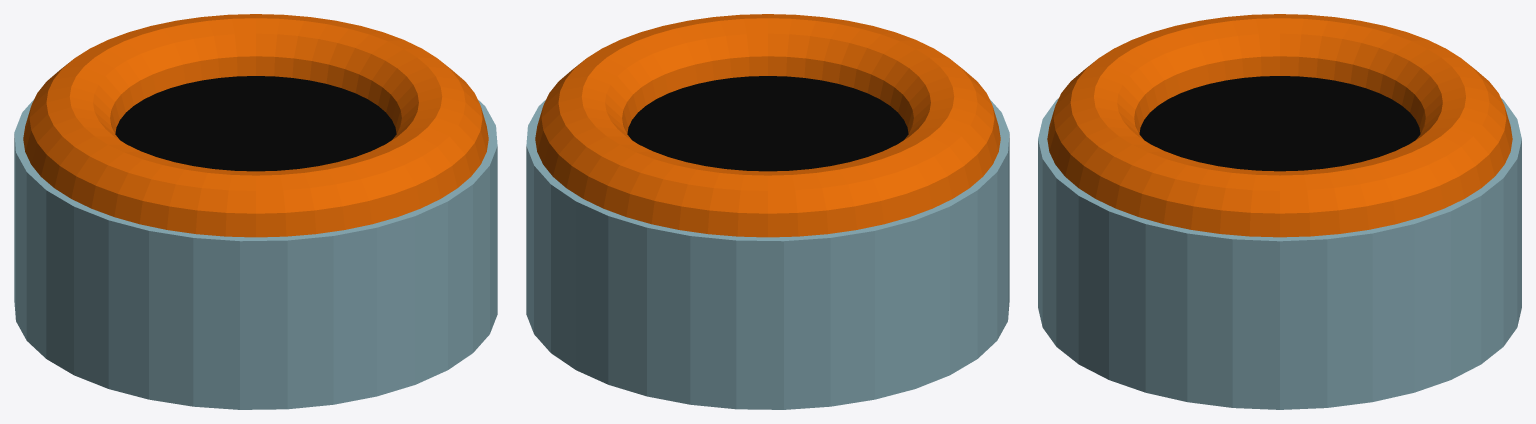
File: missileSilo.fbx
3 views of the same model, side by side, from view 1: azimuth 30°, elevation 25°; view 2: azimuth 150°, elevation 25°; view 3: azimuth 270°, elevation 25° (orthographic).
Visible parts, largest first — view 1: Cylinder, Torus, inner; view 2: Cylinder, Torus, inner; view 3: Cylinder, Torus, inner.
Boxes of the visible parts, x1,y1,x2,y2 form: Cylinder: [14, 99, 497, 409]; Torus: [23, 14, 488, 237]; inner: [115, 76, 396, 171]; Cylinder: [526, 99, 1009, 409]; Torus: [535, 14, 1000, 237]; inner: [627, 76, 908, 171]; Cylinder: [1038, 98, 1521, 409]; Torus: [1047, 14, 1512, 237]; inner: [1139, 76, 1420, 171].
Bounding box in the file's own units: 260 × 125 × 260.
